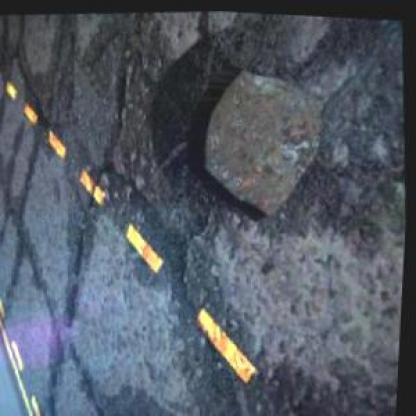pothole: (177, 53, 337, 226)
